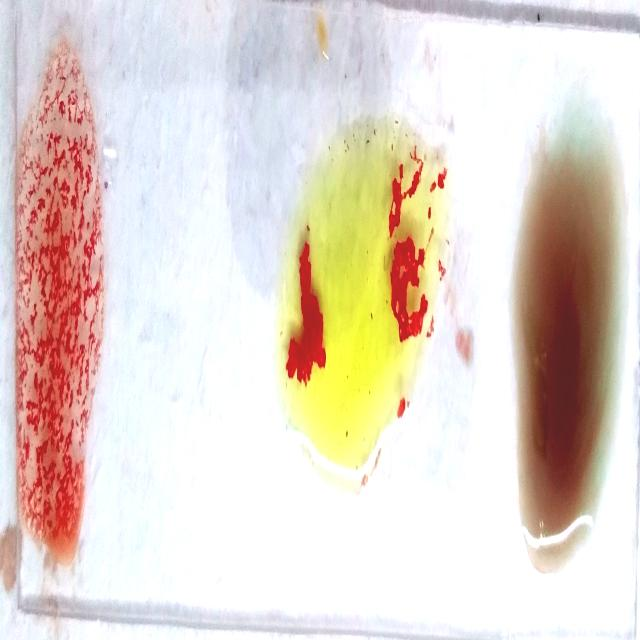B: (283, 100, 457, 497)
D: (13, 38, 102, 558)
